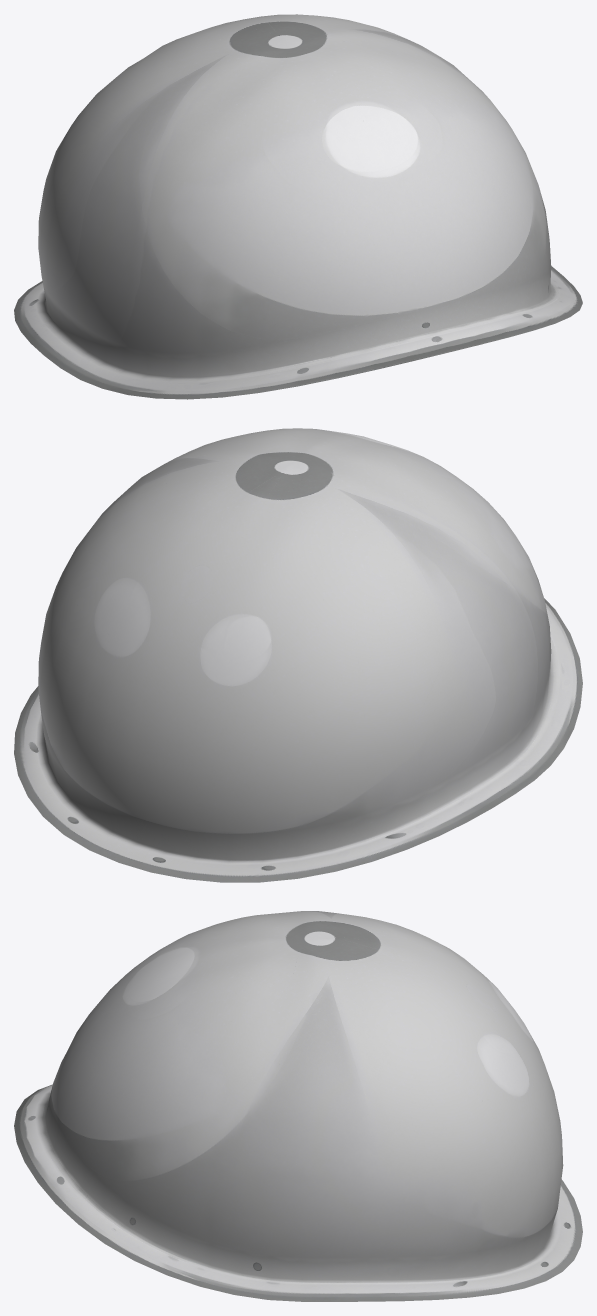
The model's file is simpleHelmet.glb.
3 renders of one model, top to bottom at view 1: azimuth 30°, elevation 25°; view 2: azimuth 150°, elevation 25°; view 3: azimuth 270°, elevation 25°, orthographic. The views are drawn at different scales.
Parts seen in each view (by area): view 1: SimpleHelmet; view 2: SimpleHelmet; view 3: SimpleHelmet.
Boxes of the visible parts, left/top/right/bottom form: SimpleHelmet: left=14, top=14, right=582, bottom=399; SimpleHelmet: left=14, top=428, right=582, bottom=882; SimpleHelmet: left=14, top=911, right=582, bottom=1301.
Bounding box in the file's own units: 9.91 × 6.11 × 10.76.
Materials: 1 (1 with a texture image).
